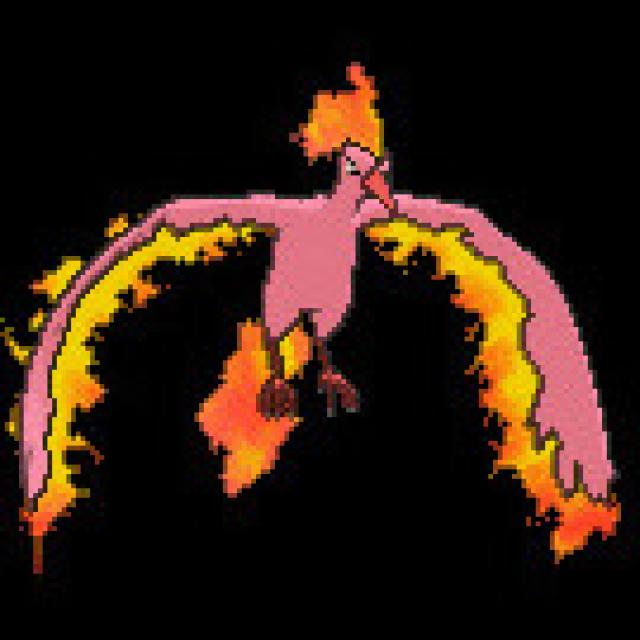Moltres: (19, 75, 591, 545)
